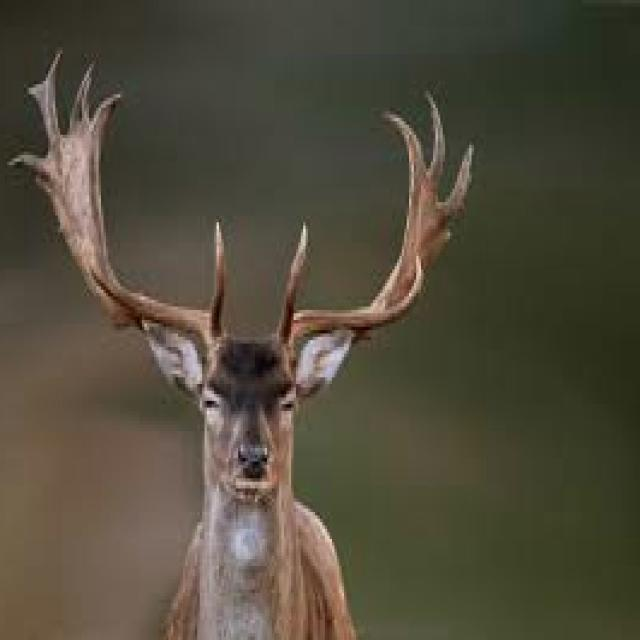deer: (12, 51, 472, 637)
